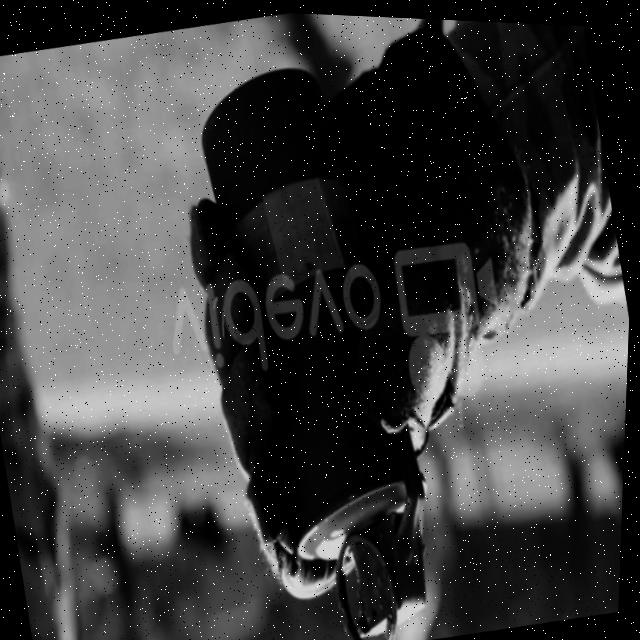grenade: (155, 25, 489, 640)
